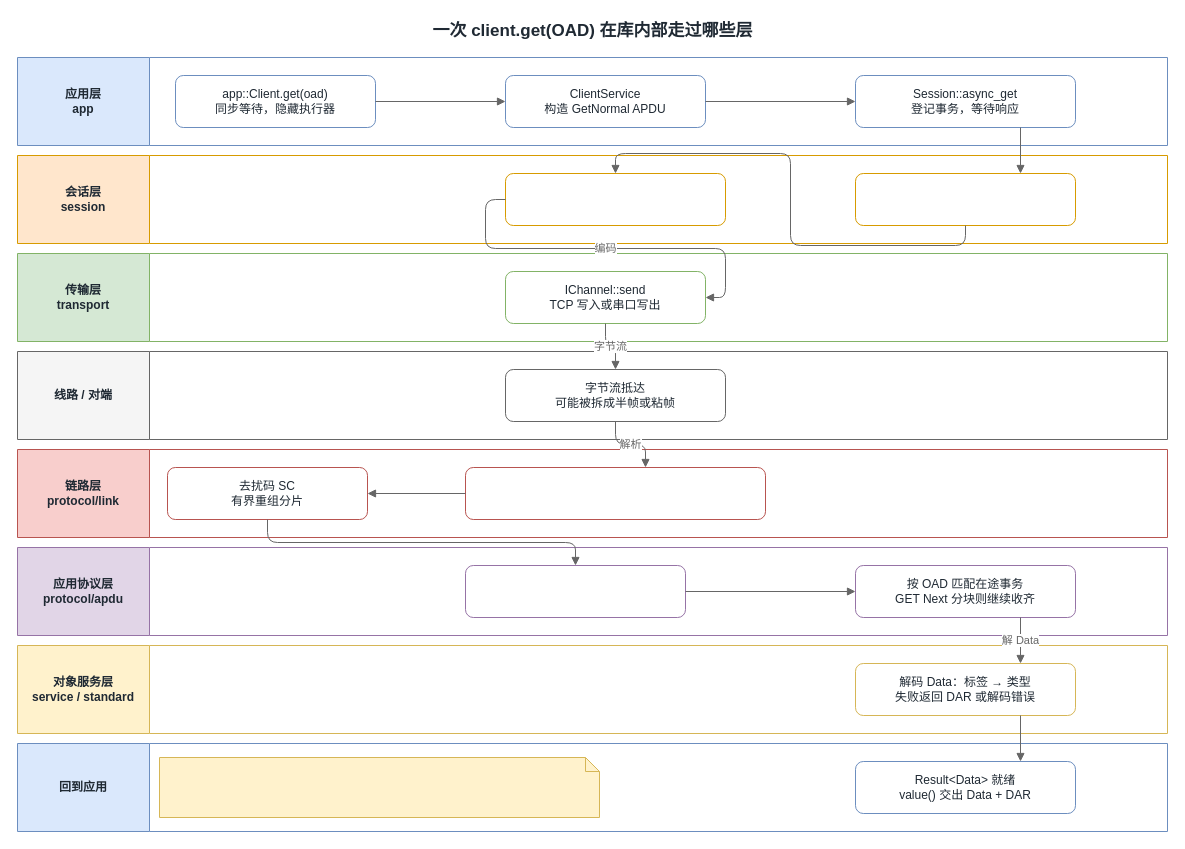
The diagram is 1185 pixels wide and 849 high, and some of its shapes have lost their labels. The shapes that lost their labels are listed below. From the top down, each one's centre as x and y in pixels, then its label:
the point at 615,199: 编码 APDU → 生成链路帧 链路分片（超长时）
the point at 965,199: 检查 State 是否 associated 单在途，PIID 递增
the point at 615,493: 增量流解析：扫描 68 起止符 校验 HCS / FCS，失败则跳过重同步
the point at 575,591: 统一 APDU 分发入口 识别 GET-Response
the point at 379,787: 任一层失败都走同一条路：生成带 offset 与错误码的 Error， 经 Result 逐层上抛；会话层负责取消在途事务并清理状态。
